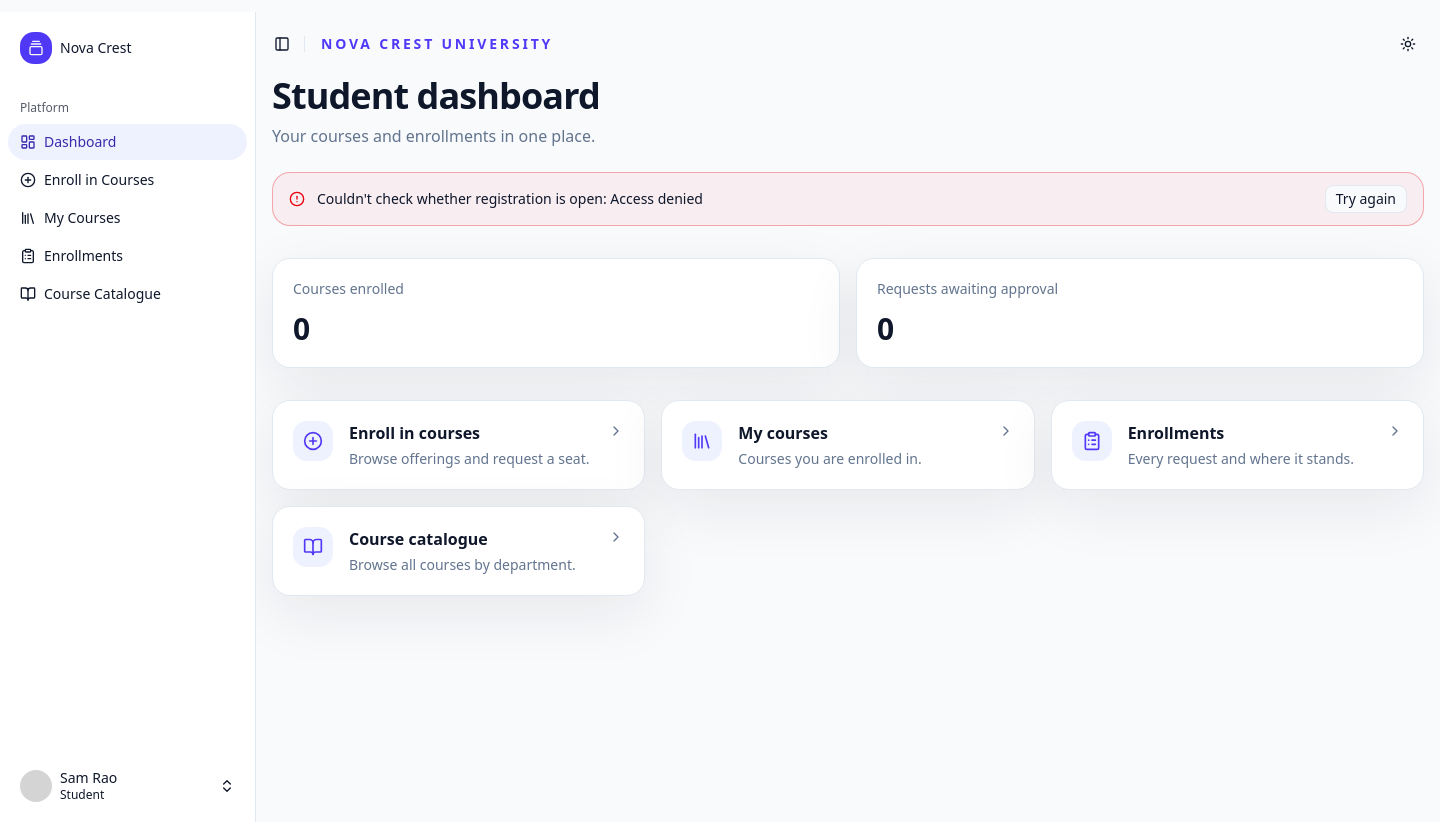
Scenario: StudentHome › says when it could not check registration dates, and retries
The width and height of the screenshot is (1440, 822).
Expected: the message shows "Couldn't check whether registration is open: Access denied", [317,189,703,208]
Step 1. Click the button "Try again" → (1366, 199), box [1325,185,1407,213]
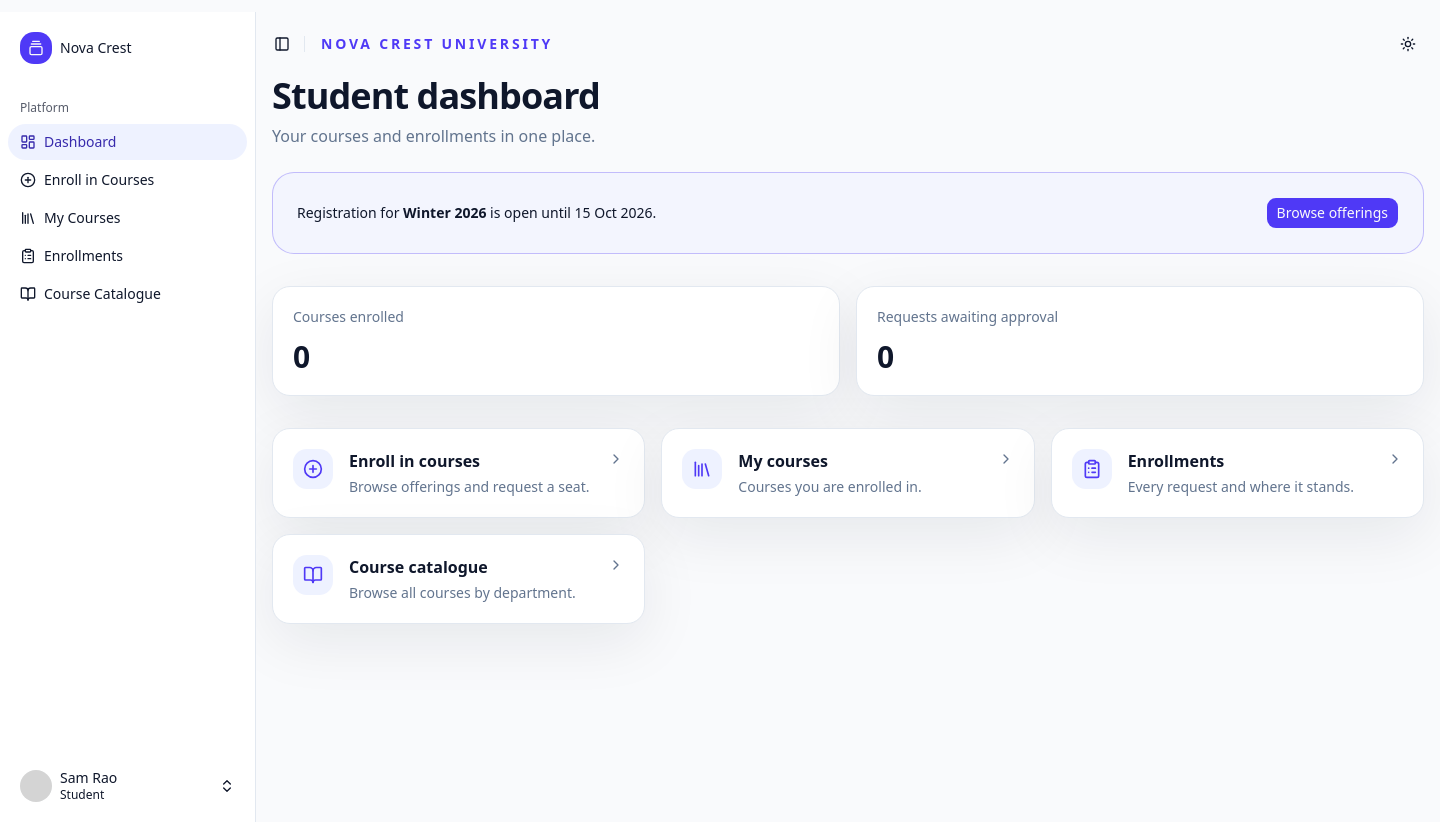
Expected: the element named "Registration open" is shown, [272,172,1424,254]
